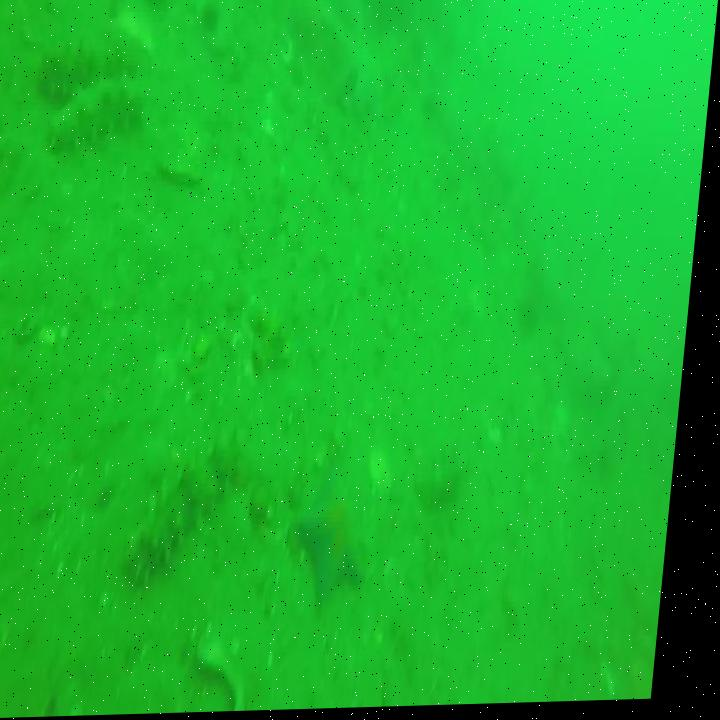holothurian: (135, 434, 263, 588), (50, 87, 146, 146), (35, 41, 139, 95)
scallop: (376, 452, 401, 492), (0, 488, 4, 517)
starfish: (304, 468, 394, 609)
